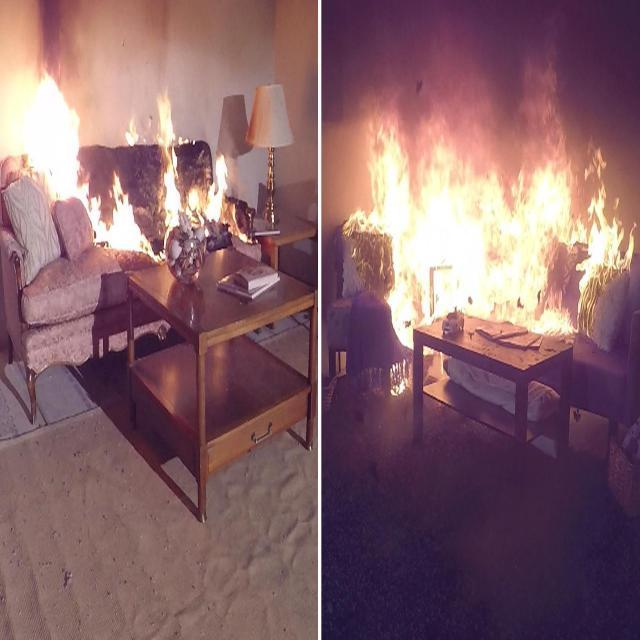Fire: (352, 113, 636, 343), (14, 48, 240, 247)
